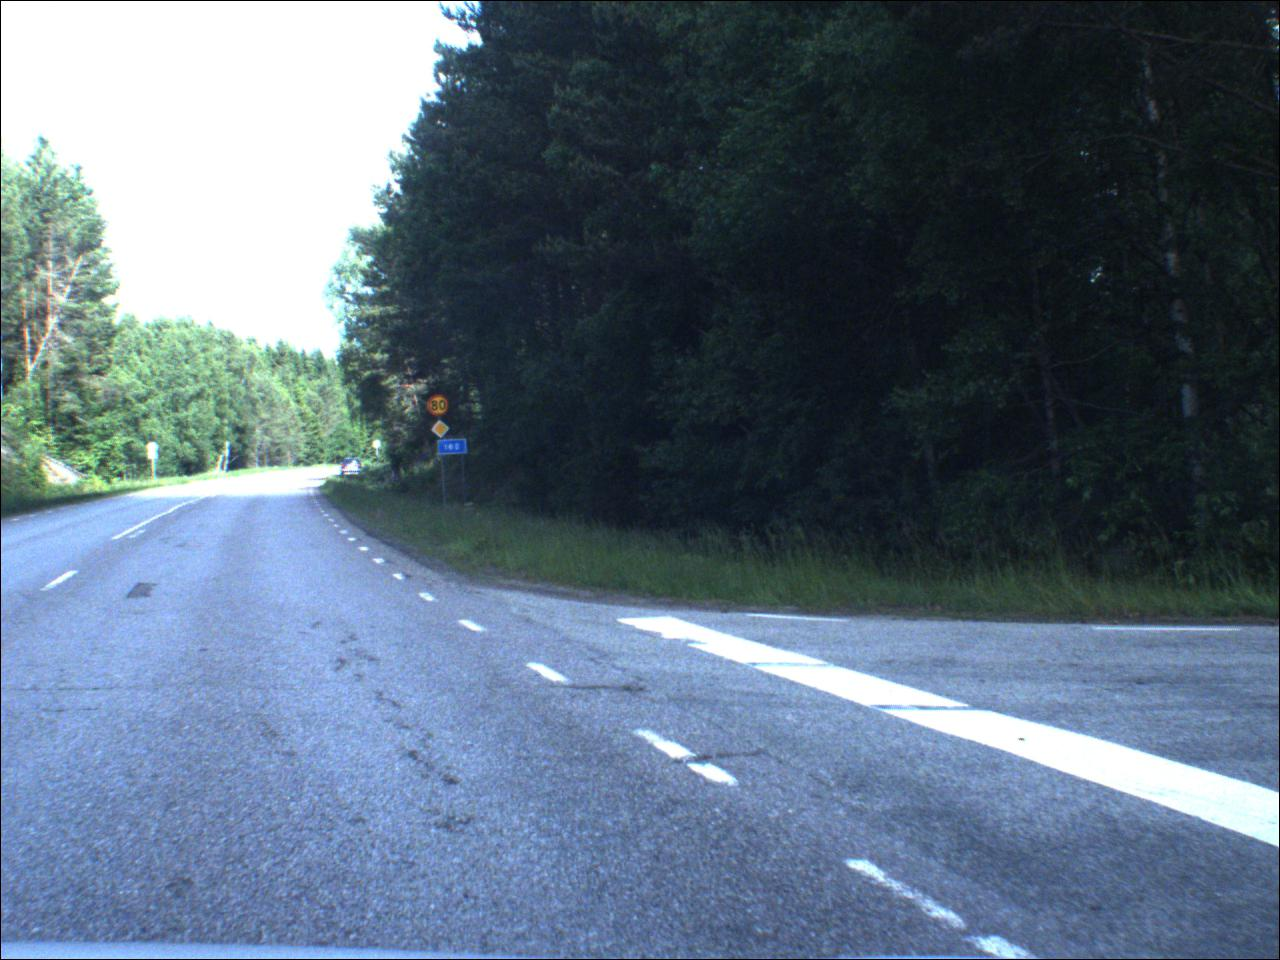80_SIGN: (428, 393, 452, 419)
PRIORITY_ROAD: (433, 421, 453, 441)
